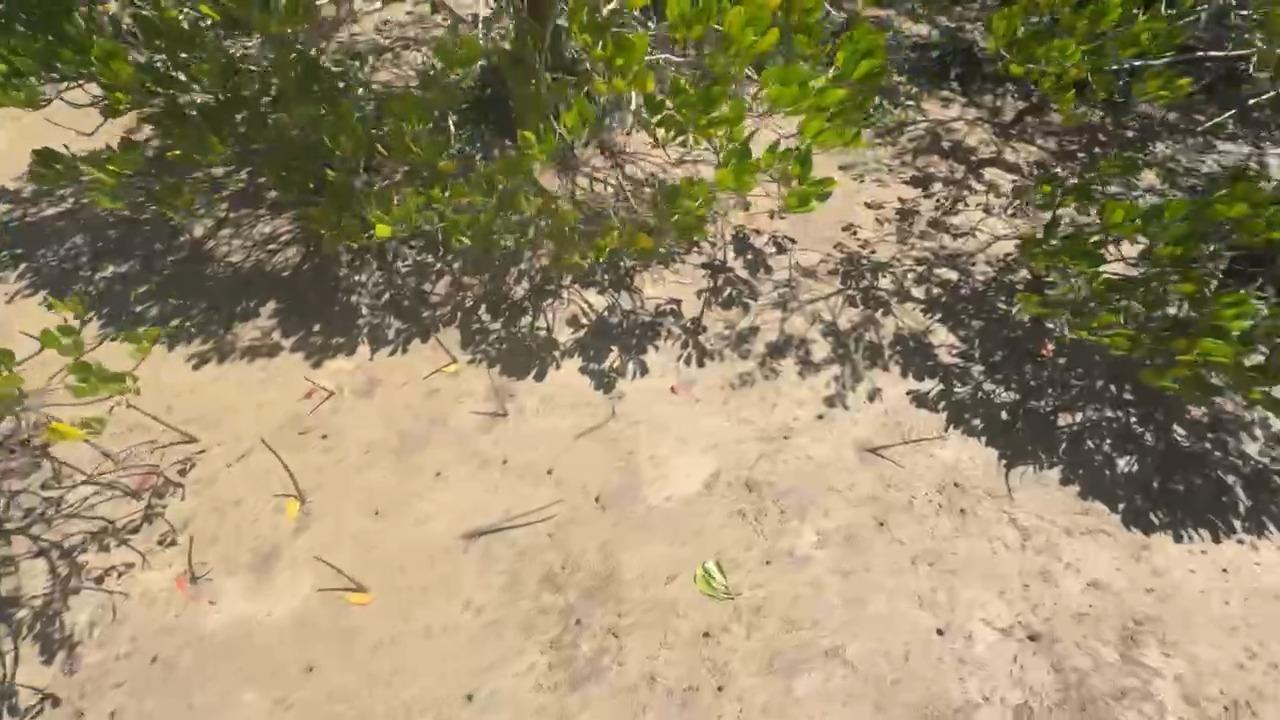Tree: (463, 498, 565, 542), (125, 403, 202, 441), (261, 438, 305, 503), (313, 557, 367, 592), (867, 436, 942, 454), (488, 366, 508, 416), (431, 334, 461, 362), (303, 377, 339, 396), (185, 535, 198, 578)
